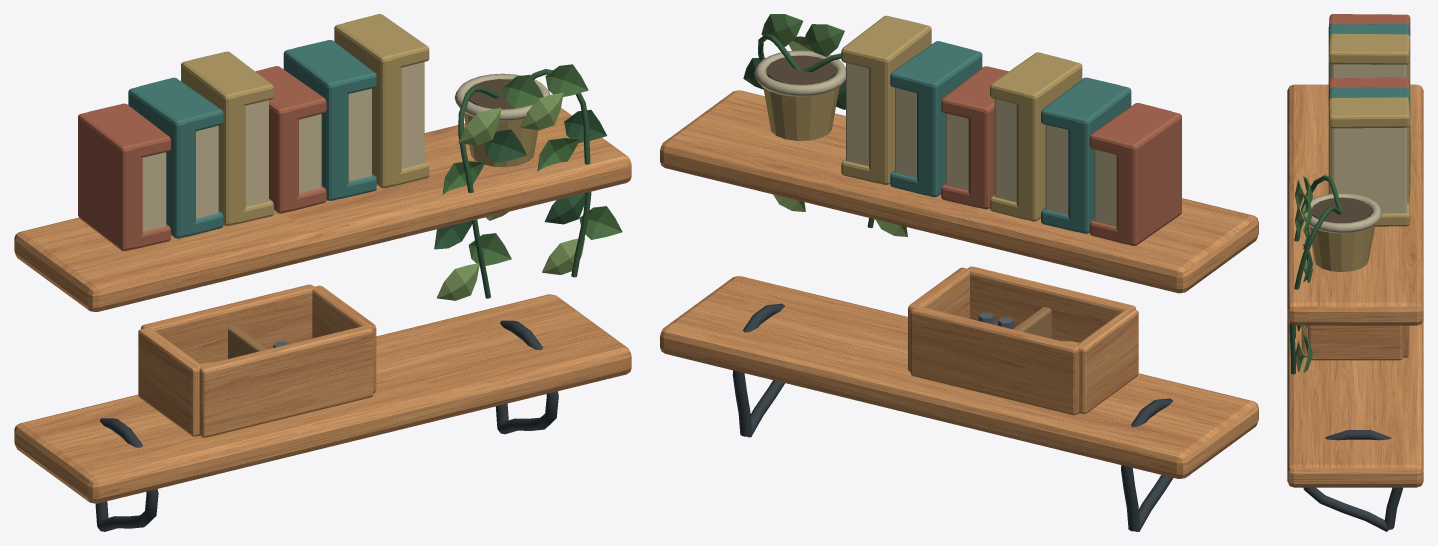
3 views of the same model, side by side, from view 1: azimuth 30°, elevation 25°; view 2: azimuth 150°, elevation 25°; view 3: azimuth 270°, elevation 25° (orthographic). The views are drawn at different scales.
Visible parts, largest first — view 1: workshop_oak, workshop_ochre, workshop_red, workshop_teal, workshop_pages, workshop_leaf_dark, workshop_leaf, workshop_leaf_light, workshop_steel_dark, workshop_ceramic, workshop_soil, workshop_wood; view 2: workshop_oak, workshop_ochre, workshop_red, workshop_teal, workshop_pages, workshop_steel_dark, workshop_leaf, workshop_ceramic, workshop_soil, workshop_leaf_dark, workshop_leaf_light, workshop_wood; view 3: workshop_oak, workshop_ochre, workshop_pages, workshop_teal, workshop_steel_dark, workshop_red, workshop_leaf_dark, workshop_ceramic, workshop_soil, workshop_leaf, workshop_leaf_light.
Part boxes in pixels (x1,y1,x2,y2): workshop_oak: [14, 107, 631, 503]; workshop_ochre: [181, 14, 538, 225]; workshop_red: [78, 66, 326, 251]; workshop_teal: [128, 40, 376, 238]; workshop_pages: [142, 62, 424, 231]; workshop_leaf_dark: [434, 69, 606, 298]; workshop_leaf: [442, 64, 622, 265]; workshop_leaf_light: [437, 92, 584, 300]; workshop_steel_dark: [95, 320, 558, 531]; workshop_ceramic: [454, 73, 549, 121]; workshop_soil: [468, 79, 513, 109]; workshop_wood: [228, 326, 267, 358]; workshop_oak: [660, 90, 1258, 478]; workshop_ochre: [763, 15, 1082, 221]; workshop_red: [941, 66, 1181, 245]; workshop_teal: [890, 41, 1131, 233]; workshop_pages: [846, 63, 1116, 226]; workshop_steel_dark: [732, 303, 1172, 531]; workshop_leaf: [761, 14, 844, 56]; workshop_ceramic: [754, 50, 845, 96]; workshop_soil: [766, 55, 835, 84]; workshop_leaf_dark: [743, 33, 874, 227]; workshop_leaf_light: [773, 36, 907, 236]; workshop_wood: [1013, 307, 1051, 338]; workshop_oak: [1287, 84, 1423, 487]; workshop_ochre: [1308, 33, 1410, 271]; workshop_pages: [1332, 64, 1406, 213]; workshop_teal: [1328, 24, 1410, 196]; workshop_steel_dark: [1303, 430, 1402, 531]; workshop_red: [1328, 14, 1410, 99]; workshop_leaf_dark: [1289, 175, 1342, 374]; workshop_ceramic: [1301, 193, 1382, 233]; workshop_soil: [1312, 197, 1371, 222]; workshop_leaf: [1303, 176, 1312, 372]; workshop_leaf_light: [1294, 179, 1307, 372].
Size of the model in its own units: 1.9 by 1.47 by 0.49.
15 materials, 1 textured.
